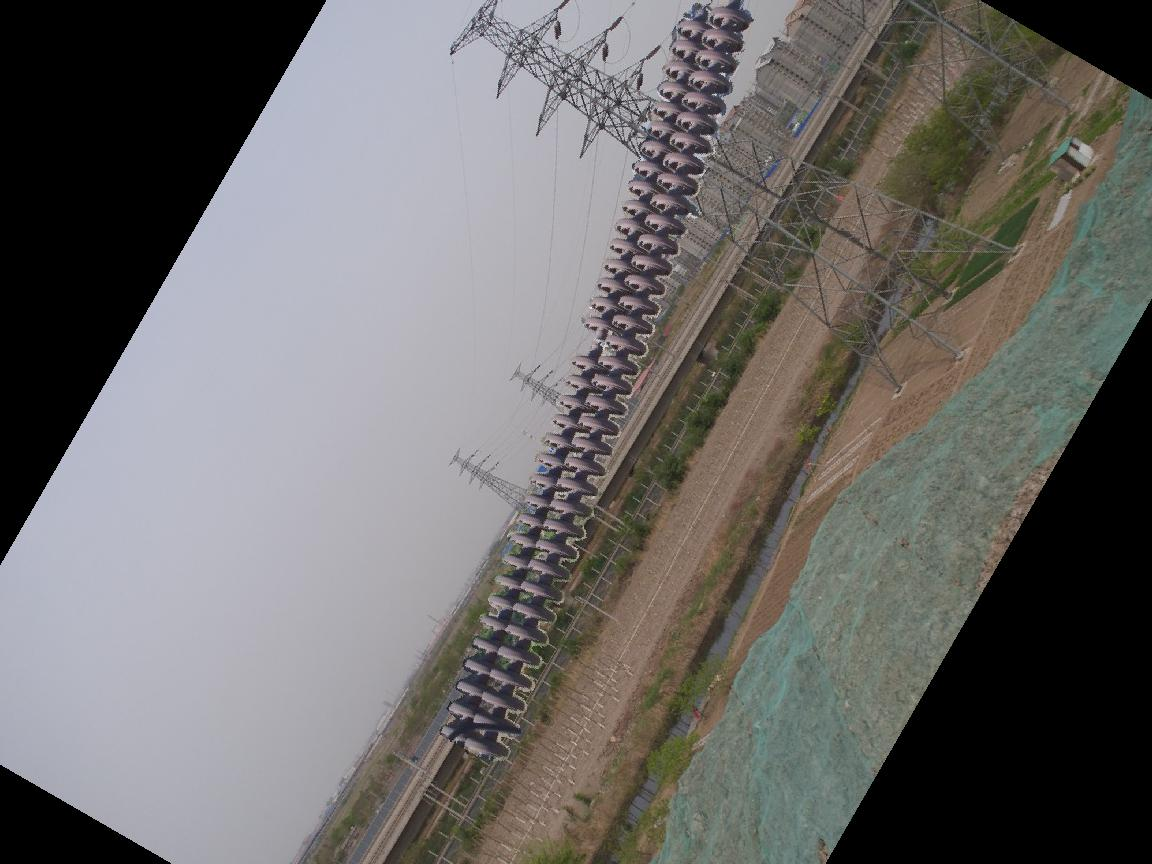insulator: (436, 1, 757, 773)
insulator_stringdrop: (564, 311, 615, 373)
